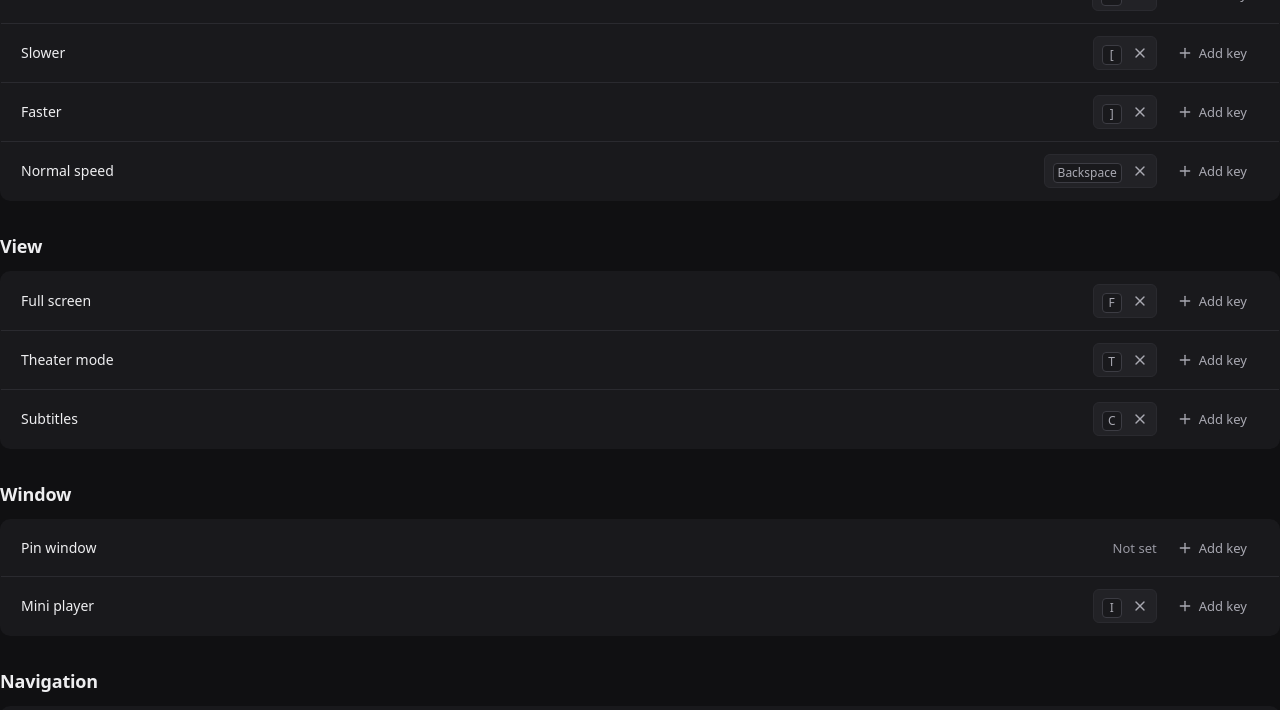
ShortcutsSettings › explains a key another action uses and can move it here
(page scrolled)
Click the button with aria-label "Add a key for Theater mode" at (1212, 360), box x1=1165 y1=344 x2=1259 y2=376
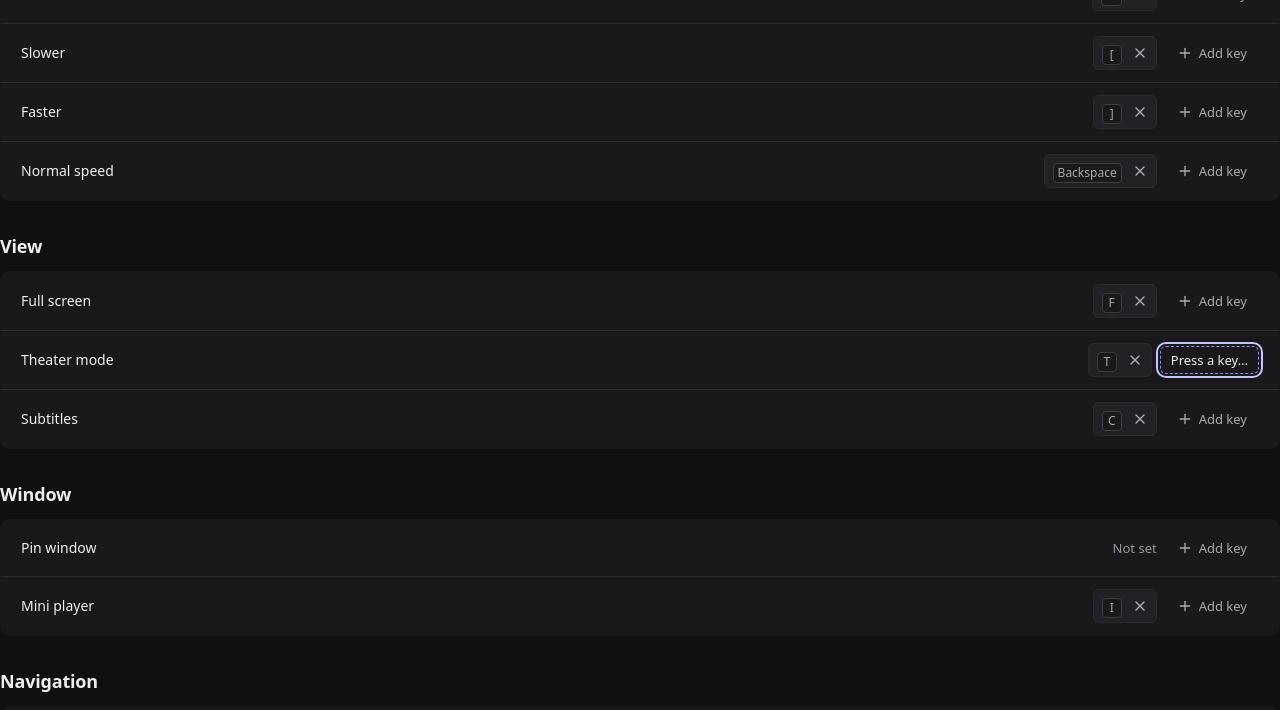
Type keys "f"
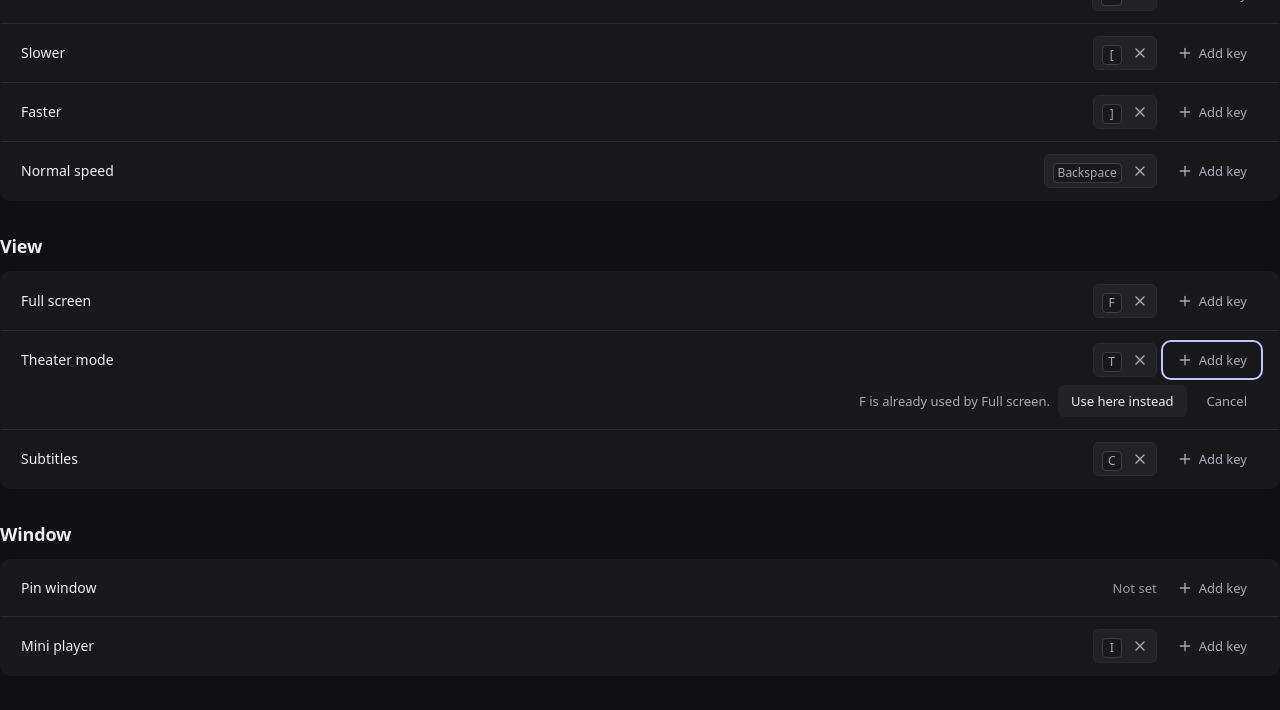
Expected: the message shows "F is already used by Full screen.", x1=859 y1=385 x2=1259 y2=417
Click the button "Use here instead" at (1122, 401), box x1=1058 y1=385 x2=1187 y2=417
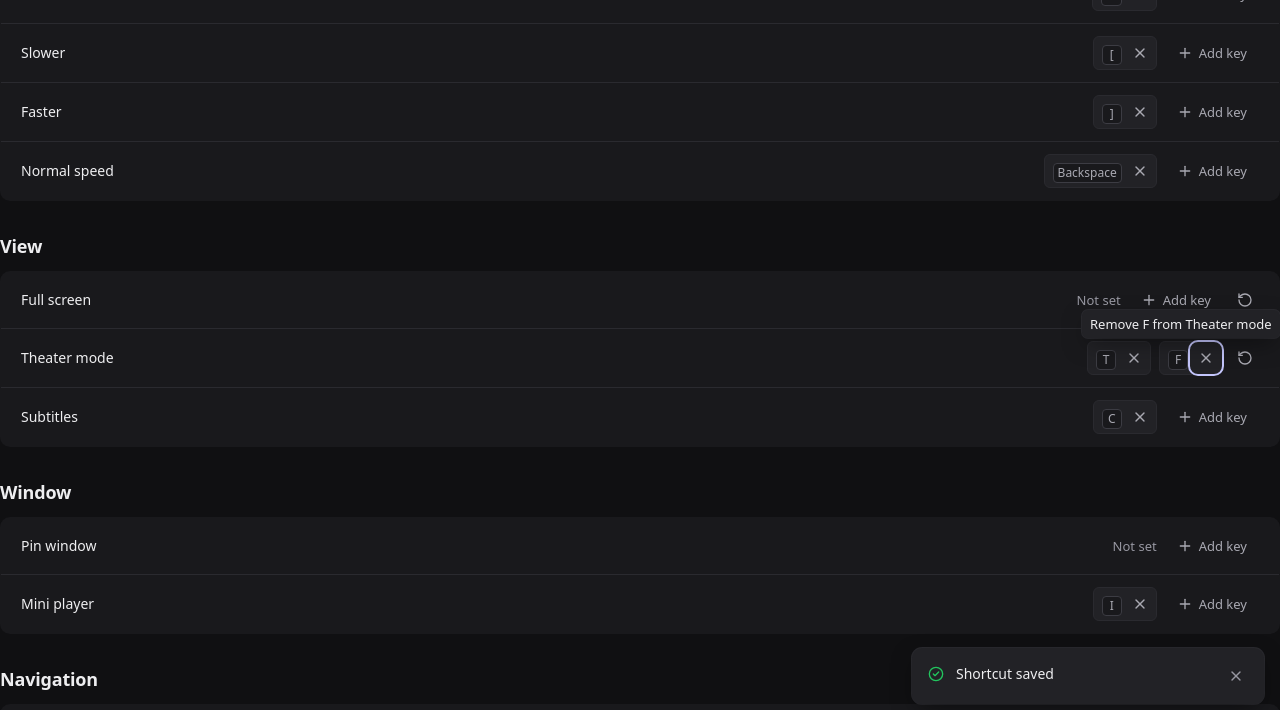
Expected: the text "Not set" in the row of "Full screen" is shown, x1=1077 y1=291 x2=1121 y2=309
